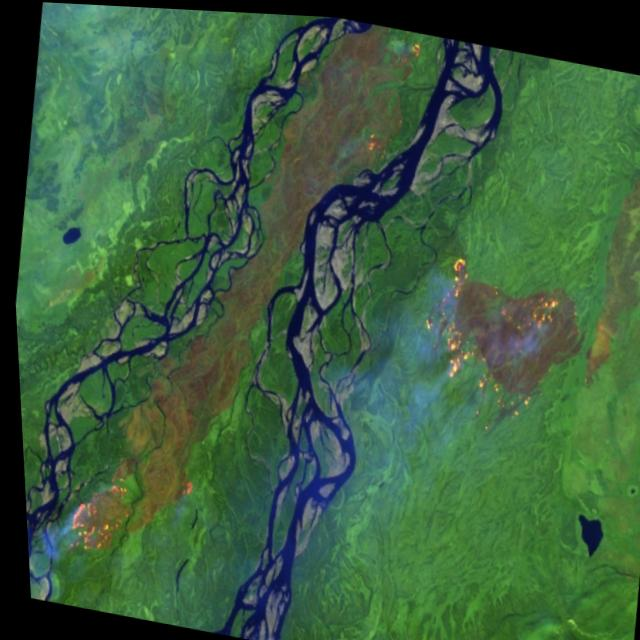fire: (403, 241, 569, 430), (44, 462, 134, 570)
